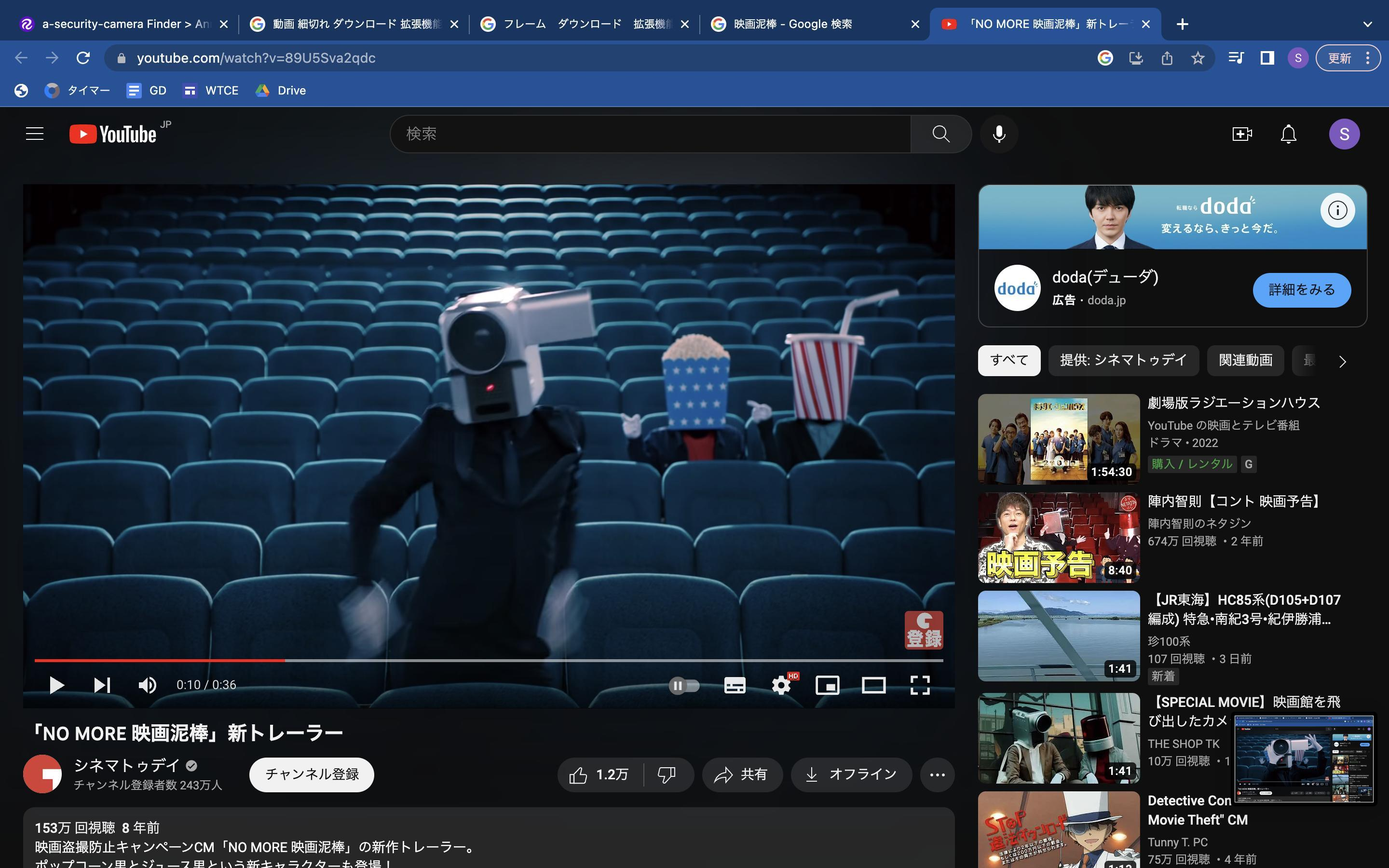no more kid: (411, 269, 614, 440)
